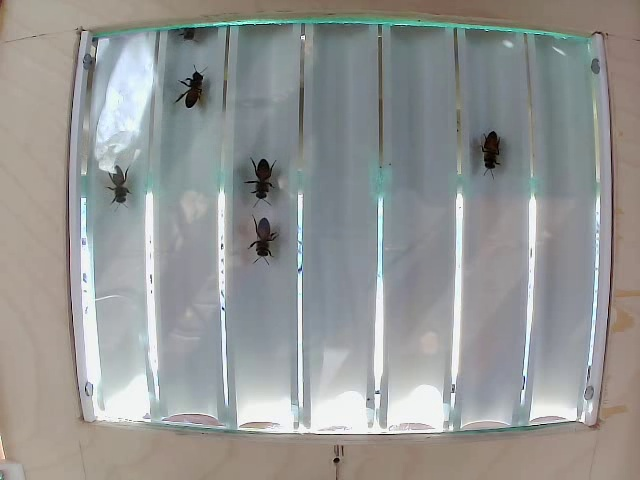bee: (172, 57, 204, 99), (261, 163, 290, 209), (102, 170, 138, 203), (476, 134, 502, 178), (251, 229, 275, 259)
